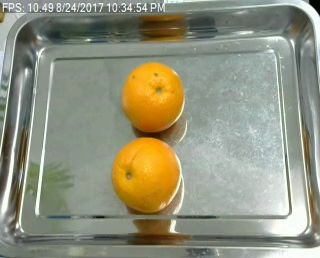Orange: (111, 136, 183, 212), (122, 60, 185, 132)
